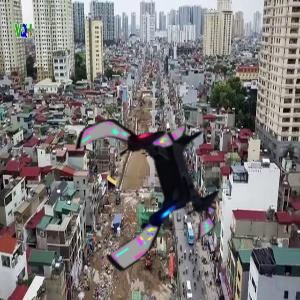drone: (64, 100, 229, 265)
